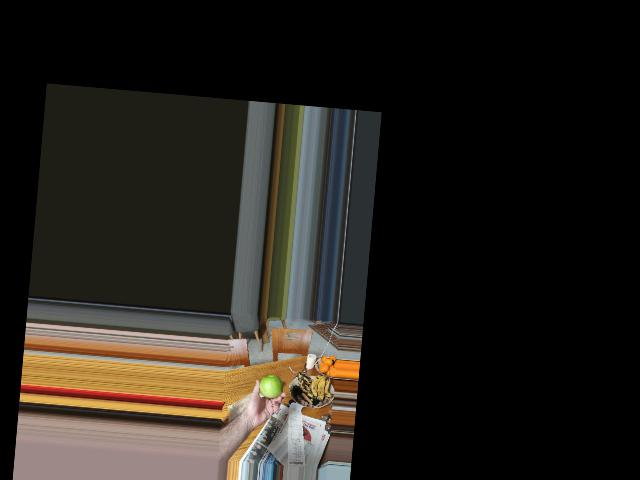apple: (258, 374, 284, 400)
